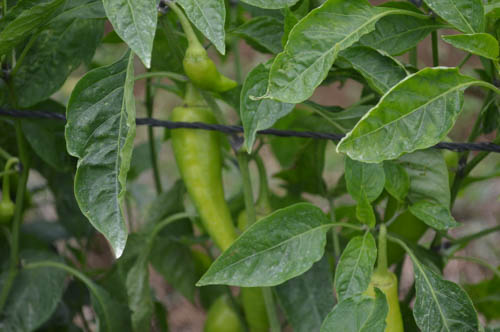ChiliPepper: (167, 107, 236, 256), (364, 272, 401, 331), (181, 54, 238, 91)
